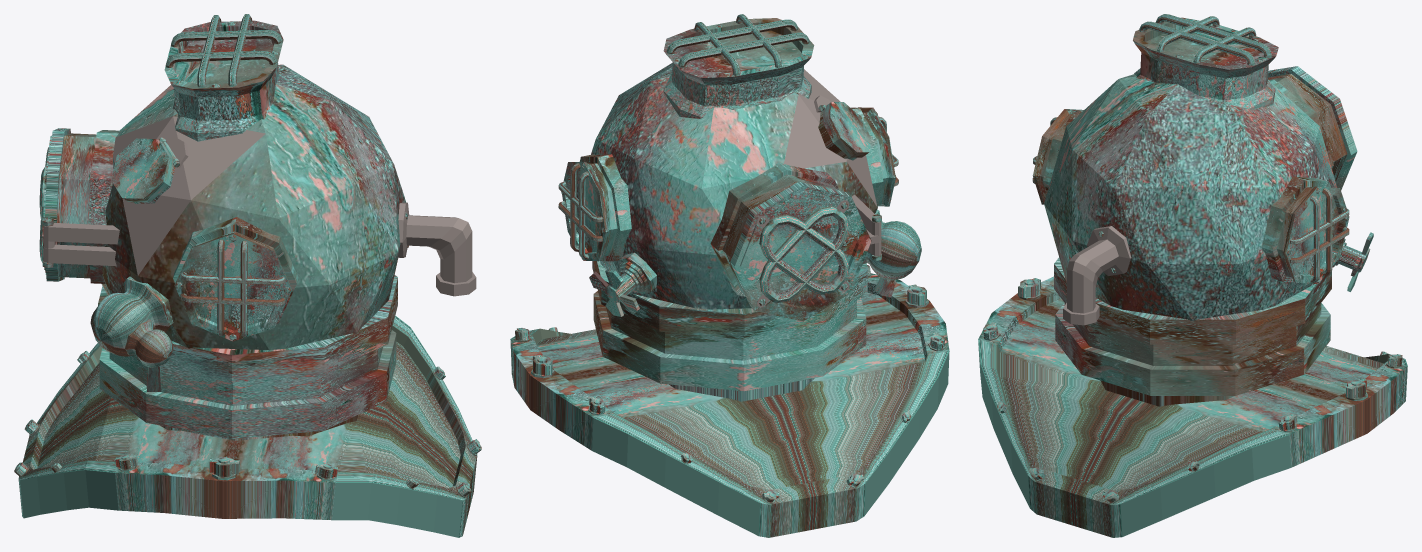
File: helmet.obj
3 renders of one model, left to right at view 1: azimuth 30°, elevation 25°; view 2: azimuth 150°, elevation 25°; view 3: azimuth 270°, elevation 25°, orthographic. The views are drawn at different scales.
Visible parts, largest first — view 1: Diving_Helmet_Cylinder; view 2: Diving_Helmet_Cylinder; view 3: Diving_Helmet_Cylinder.
Part boxes in pixels (box(x1,y1,x2,y2)): Diving_Helmet_Cylinder: box(14, 14, 481, 537); Diving_Helmet_Cylinder: box(510, 14, 949, 537); Diving_Helmet_Cylinder: box(978, 14, 1407, 537).
Bounding box in the file's own units: 2.76 × 3.11 × 2.89.
1 material, 1 textured.
